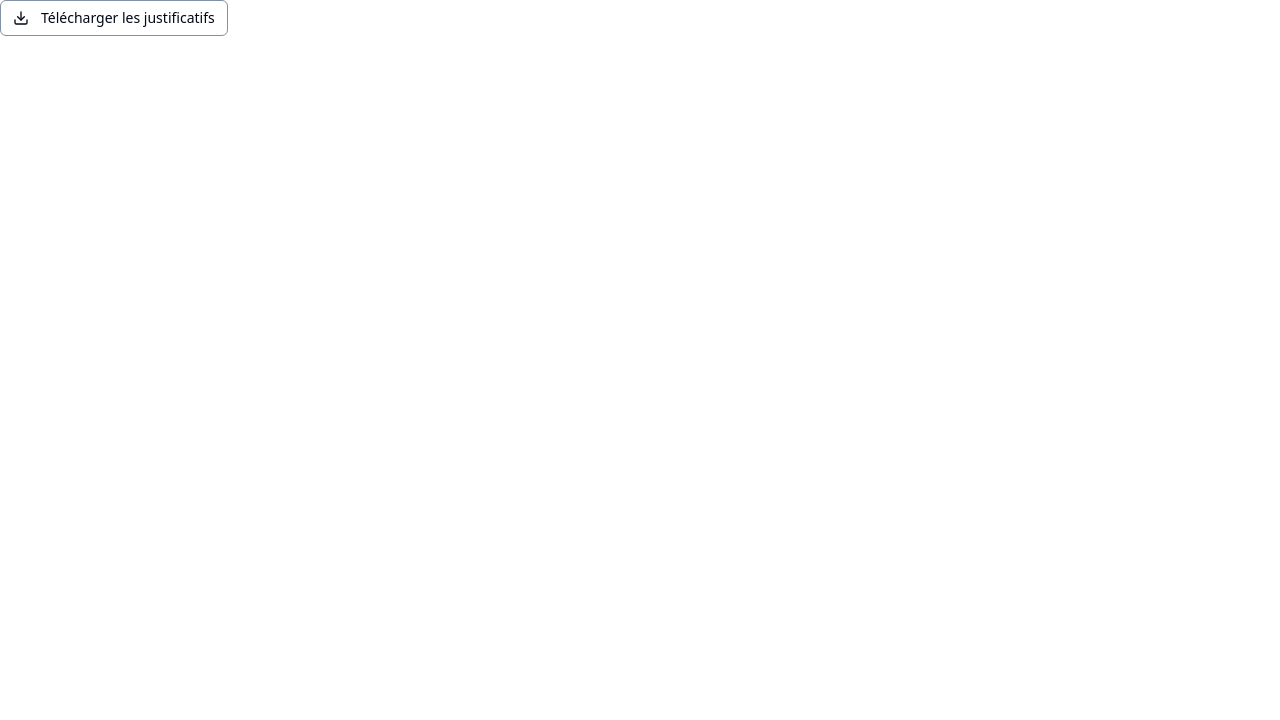
Test case: EvidenceDownload › downloads one week at a time: the latest by default, the one picked otherwise, with the week number in the file name
Later steps or results of the test are not shown.
Click the button "Télécharger les justificatifs". click: coordinates (114, 18)
box: [0,0,228,36]
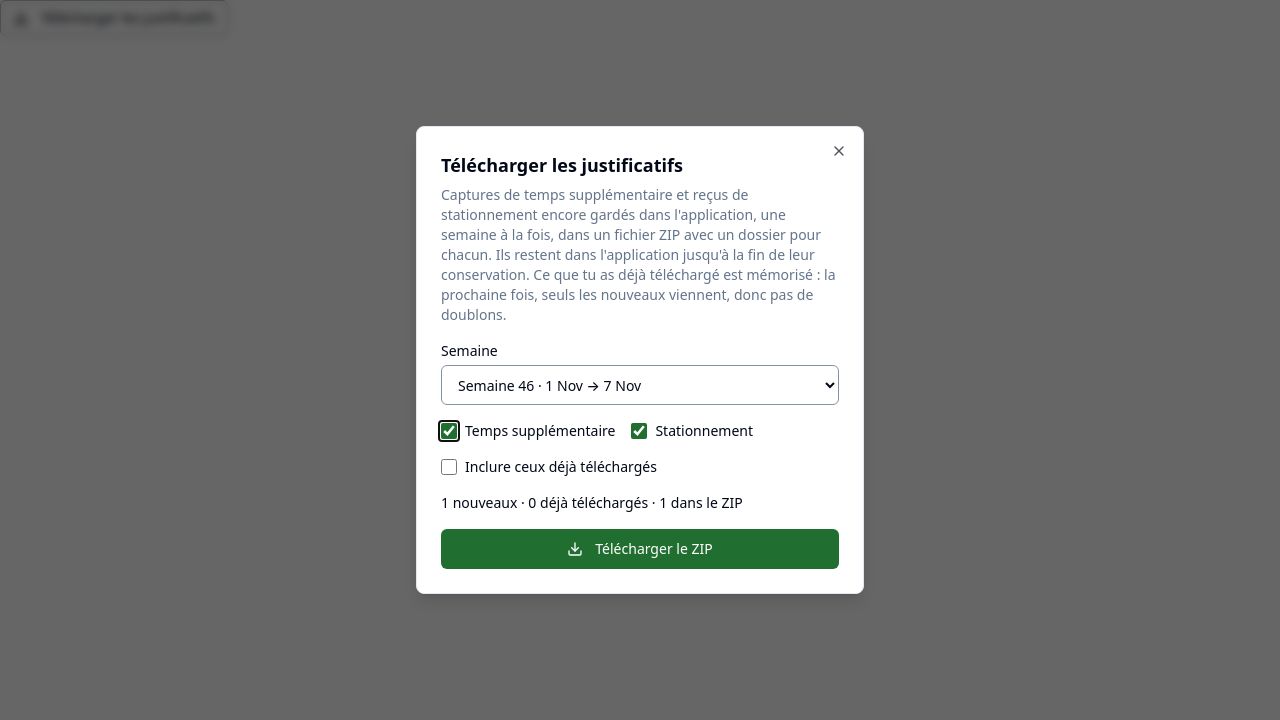
Expected: the text "1 nouveaux · 0 déjà téléchargés · 1 dans le ZIP" is shown, [441,493,743,512]
Click the button "Télécharger le ZIP". click: coordinates (640, 549)
box: [441,529,839,569]
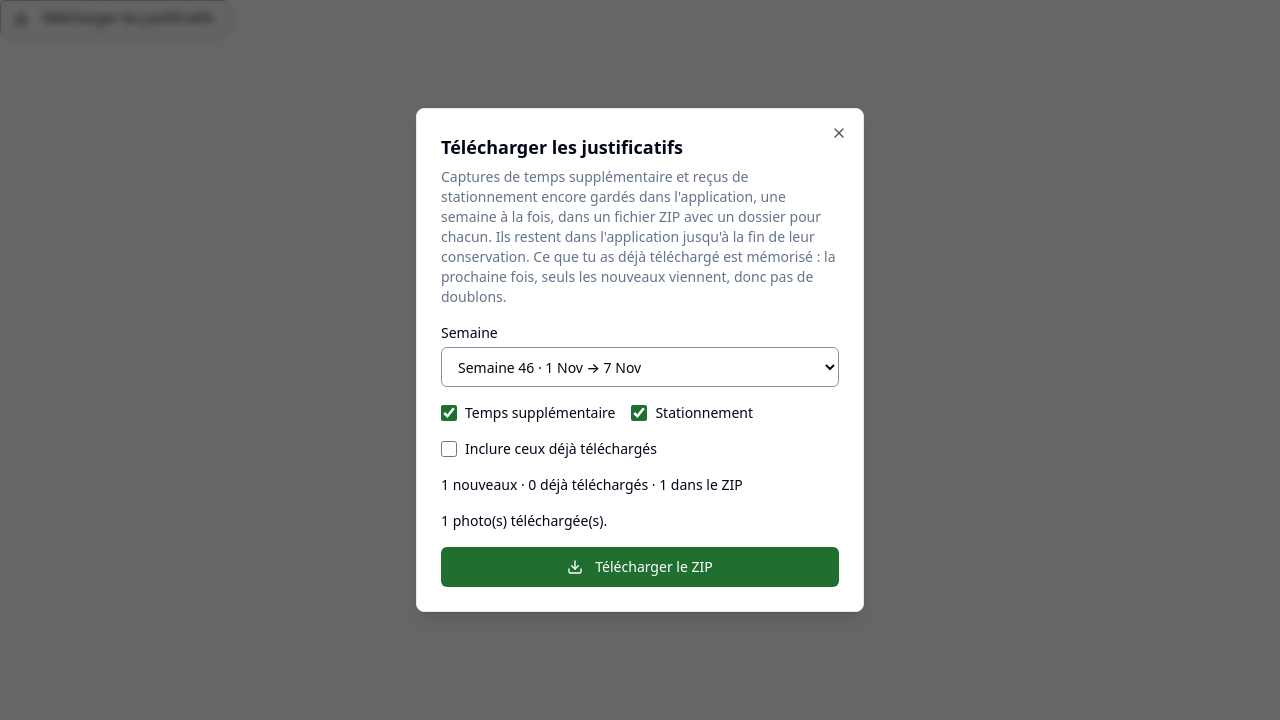
Expected: the text "1 photo(s) téléchargée(s)." is shown, [441,511,607,530]
Select "Semaine 45 · 25 Oct → 31 Oct" in the dropdown labelled "Semaine". click: coordinates (640, 367)
box: [441,347,839,387]
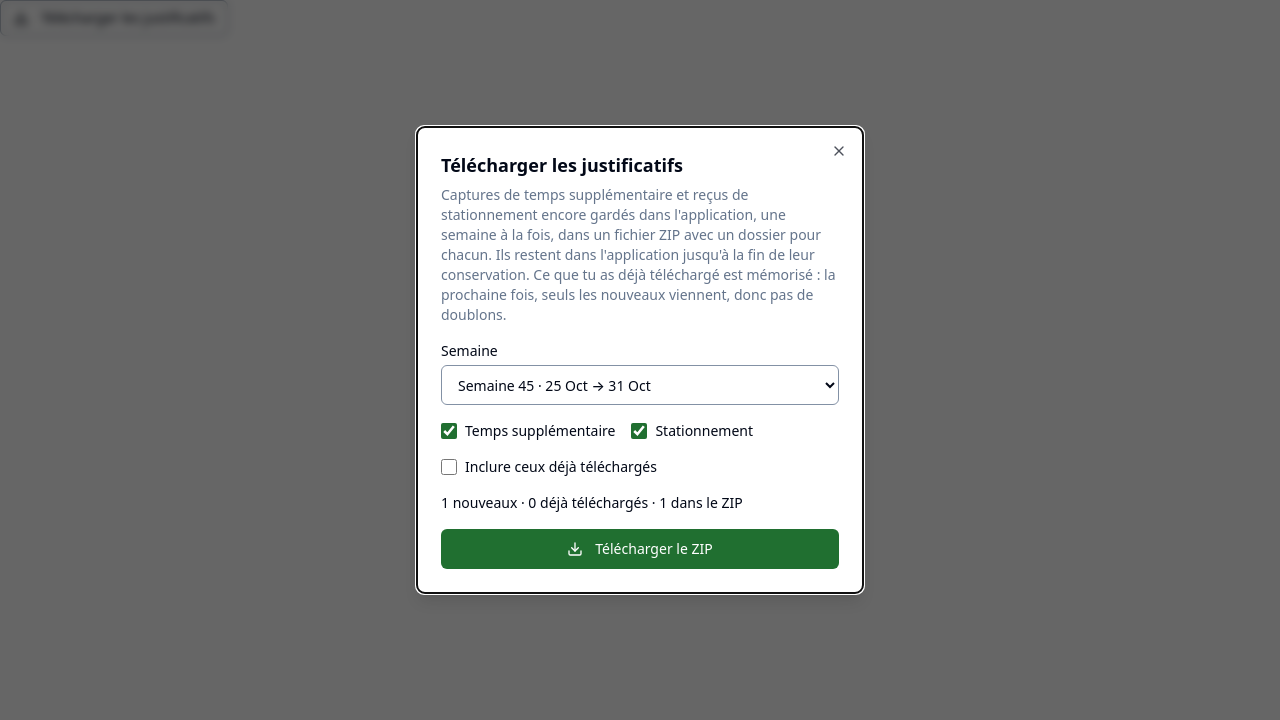
Expected: the text "1 nouveaux · 0 déjà téléchargés · 1 dans le ZIP" is shown, [441,493,743,512]
